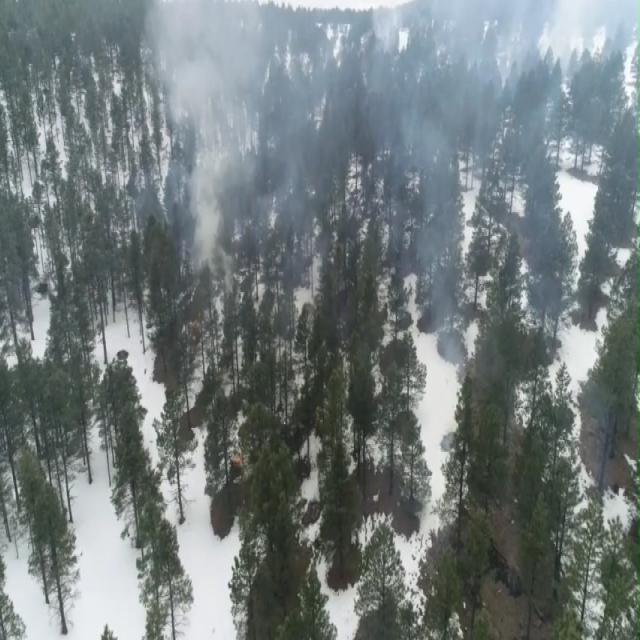Smoke: (146, 0, 259, 263)
